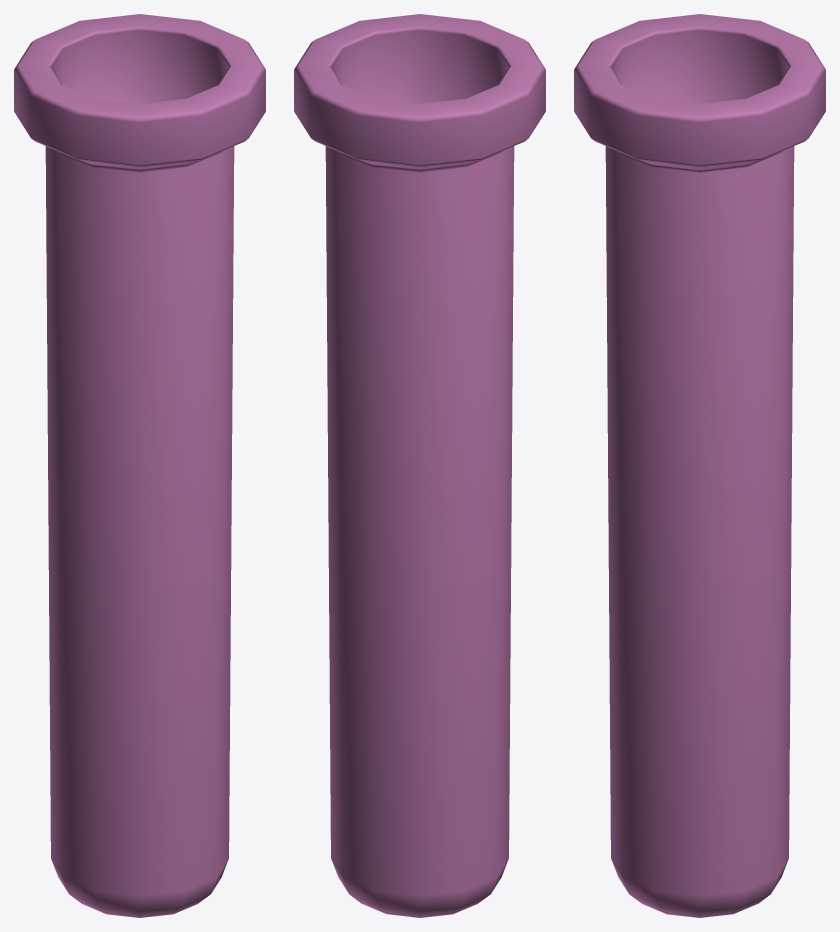
The model's file is SM_Potion_05_Unity.fbx.
The picture shows the model from 3 angles, left to right: view 1: azimuth 30°, elevation 25°; view 2: azimuth 150°, elevation 25°; view 3: azimuth 270°, elevation 25°; orthographic projection.
Visible parts, largest first — view 1: SM_Potion_05; view 2: SM_Potion_05; view 3: SM_Potion_05.
Part boxes in pixels (<box>): SM_Potion_05: <box>14,14,265,917</box>; SM_Potion_05: <box>294,14,545,917</box>; SM_Potion_05: <box>574,14,825,917</box>.
Size of the model in its own units: 2.83 by 10.29 by 2.83.
